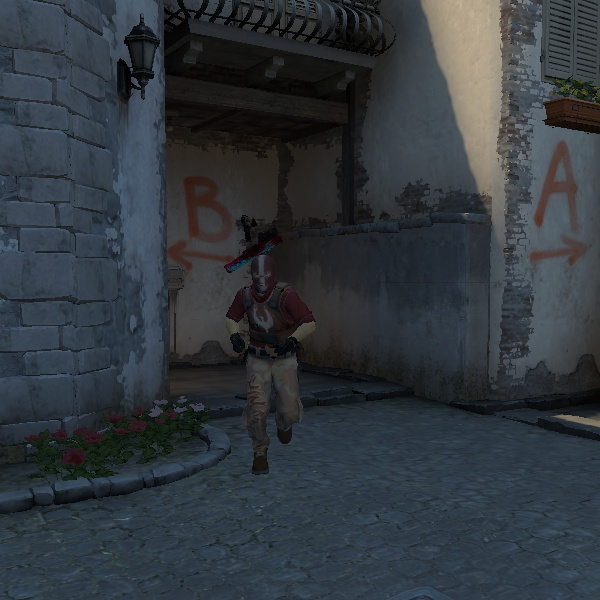t_head: (247, 263, 288, 301)
